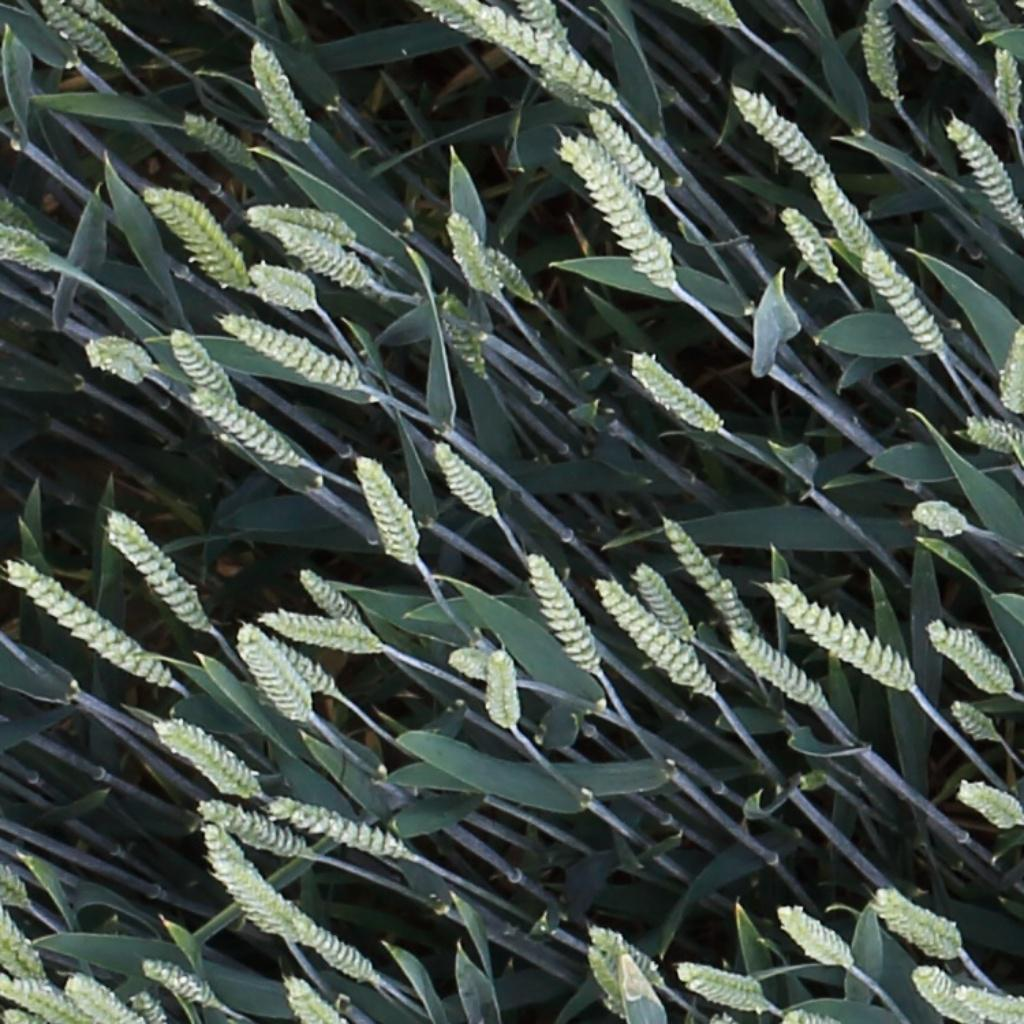0-0: (2, 563, 167, 688), (557, 129, 674, 290), (764, 582, 916, 689), (592, 576, 715, 700), (466, 8, 614, 103), (101, 510, 207, 632), (144, 184, 245, 289), (521, 547, 600, 678), (199, 824, 288, 939), (219, 315, 359, 387), (860, 241, 946, 356), (729, 81, 828, 180), (942, 110, 1024, 226), (154, 716, 262, 800), (581, 102, 669, 200), (274, 794, 404, 860), (234, 622, 314, 726), (244, 40, 318, 149), (921, 615, 1018, 697), (352, 453, 421, 568), (191, 390, 296, 465), (727, 630, 826, 709), (655, 512, 727, 614), (629, 350, 719, 431), (268, 219, 365, 286), (195, 802, 307, 860), (425, 435, 499, 522), (163, 320, 236, 408), (258, 607, 382, 658), (295, 908, 375, 983), (873, 885, 955, 957), (629, 559, 696, 647), (808, 169, 875, 256), (776, 199, 842, 286), (38, 2, 120, 69), (431, 288, 488, 382), (442, 206, 496, 299), (587, 927, 664, 992), (262, 632, 335, 700), (677, 963, 772, 1014), (776, 906, 851, 969), (292, 562, 360, 628), (178, 110, 252, 166), (588, 942, 639, 1023), (909, 966, 979, 1024), (1, 903, 49, 985), (861, 2, 899, 105), (477, 243, 539, 305), (1, 978, 81, 1024), (951, 779, 1024, 827), (278, 972, 347, 1022), (136, 959, 210, 1004), (251, 204, 349, 237), (263, 887, 315, 949), (61, 976, 131, 1022), (486, 644, 520, 736), (86, 332, 147, 382), (420, 1, 492, 43), (991, 40, 1022, 131), (245, 266, 314, 305), (906, 497, 968, 540), (518, 0, 569, 50), (955, 988, 1024, 1021), (723, 579, 762, 635), (950, 700, 999, 744), (1003, 318, 1024, 417), (0, 857, 34, 916), (674, 0, 740, 30), (966, 419, 1024, 453), (0, 226, 50, 259), (0, 193, 38, 233), (128, 981, 163, 1024), (451, 645, 494, 679), (778, 1011, 839, 1024), (1, 1010, 32, 1024)
